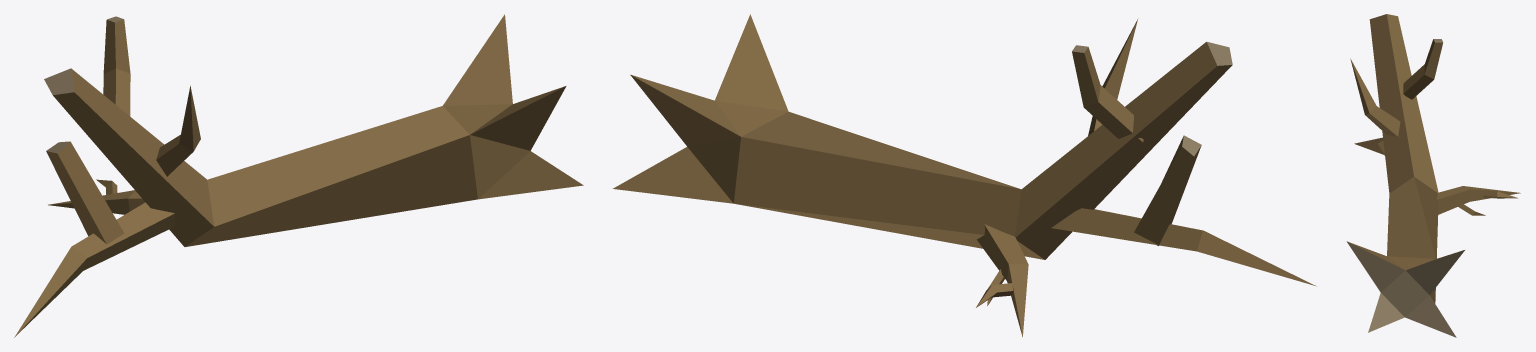
Rendered from TB_D_Env_DeadTreeD_D.FBX.
3 renders of one model, left to right at view 1: azimuth 30°, elevation 25°; view 2: azimuth 150°, elevation 25°; view 3: azimuth 270°, elevation 25°, orthographic. The views are drawn at different scales.
Parts seen in each view (by area): view 1: TB_D_Env_DeadTreeD_D; view 2: TB_D_Env_DeadTreeD_D; view 3: TB_D_Env_DeadTreeD_D.
Part boxes in pixels (x1,y1,x2,y2): TB_D_Env_DeadTreeD_D: (14,14,583,337); TB_D_Env_DeadTreeD_D: (613,14,1316,337); TB_D_Env_DeadTreeD_D: (1346,14,1520,337).
Bounding box in the file's own units: 7.09 × 2.65 × 2.67.
